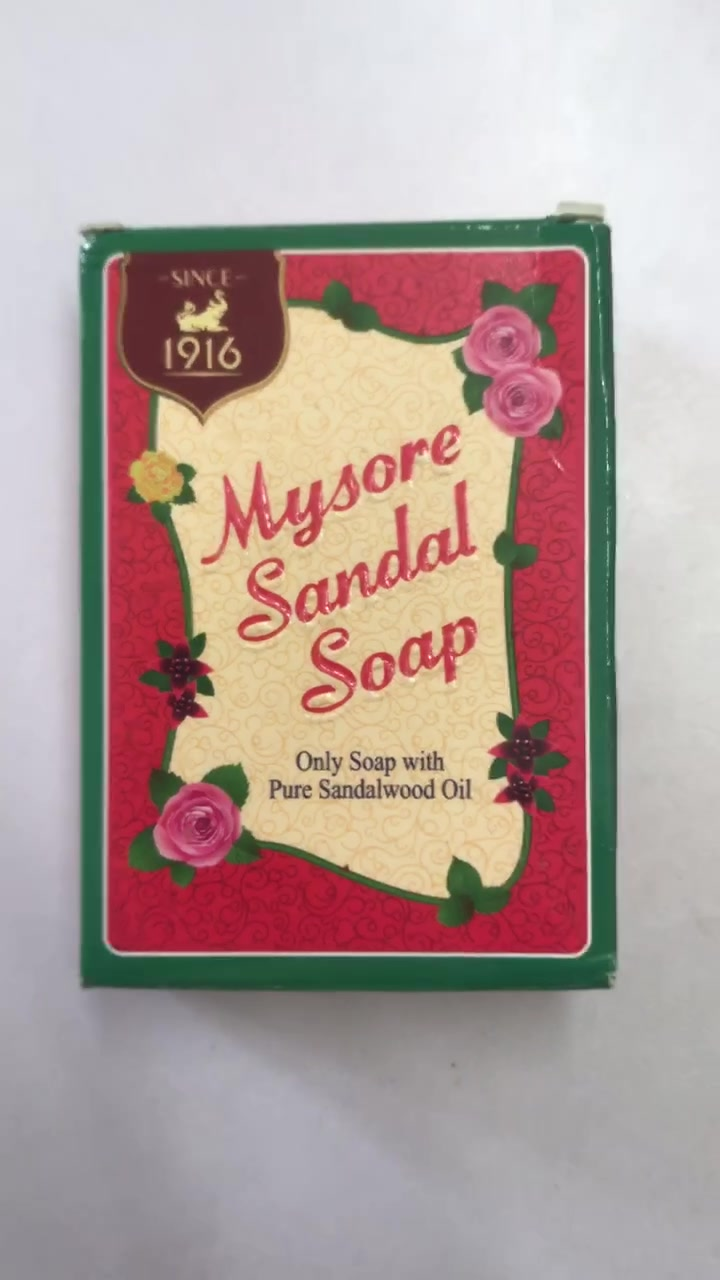mysore sandal soap: (80, 231, 603, 988)
